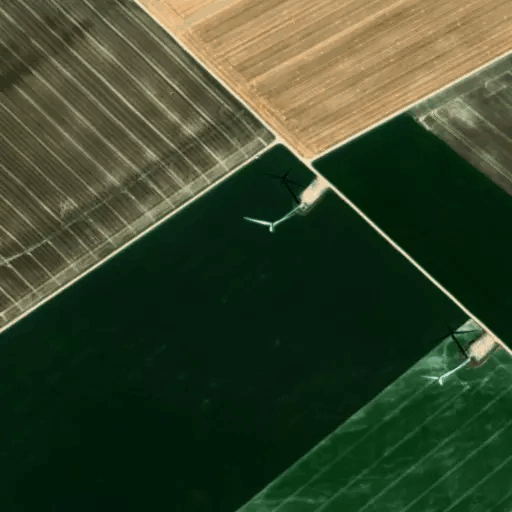wt: (240, 152, 330, 246), (419, 311, 495, 397)
